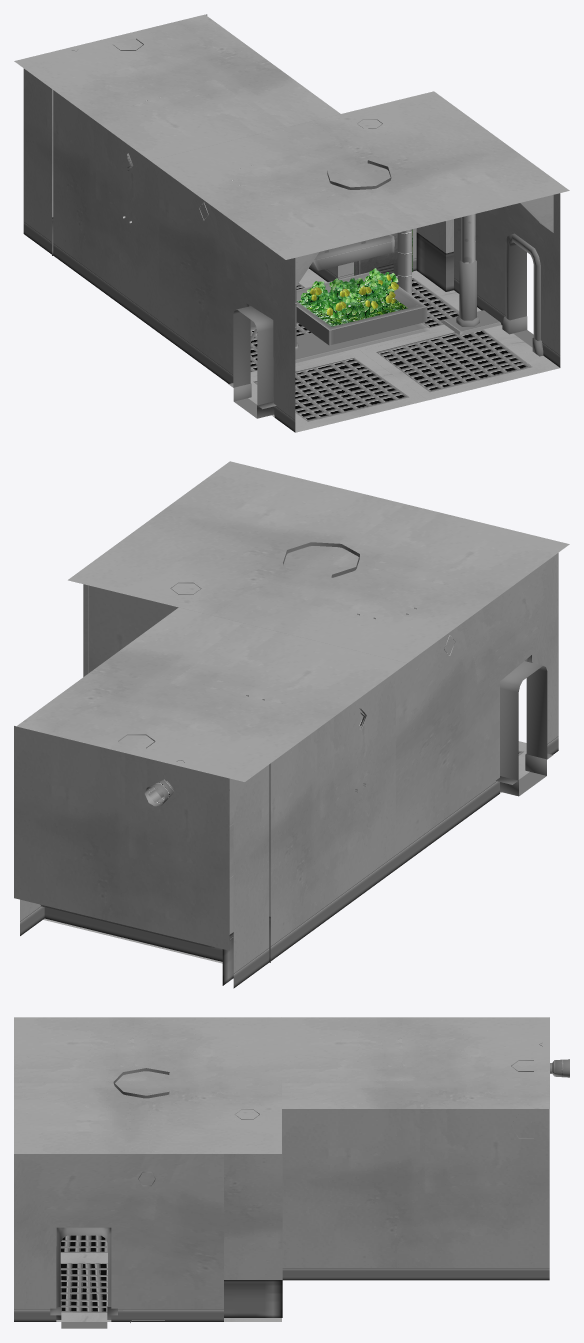
Rendered from MSH_Hydroponic_farm_room_L3_R1_optimized.fbx.
3 views of the same model, one above another, from view 1: azimuth 30°, elevation 25°; view 2: azimuth 150°, elevation 25°; view 3: azimuth 270°, elevation 25° (orthographic). The views are drawn at different scales.
Visible parts, largest first — view 1: lightmap1, lightmap0, lightmap-1; view 2: lightmap1, lightmap-1, lightmap0; view 3: lightmap1, lightmap0, lightmap-1.
Part boxes in pixels (box(x1,y1,x2,y2)): lightmap1: box(14, 14, 569, 432); lightmap0: box(52, 38, 553, 363); lightmap-1: box(233, 214, 533, 418); lightmap1: box(14, 461, 569, 988); lightmap-1: box(500, 661, 547, 796); lightmap0: box(40, 542, 455, 985); lightmap1: box(14, 1017, 549, 1321); lightmap0: box(113, 1043, 569, 1322); lightmap-1: box(60, 1227, 107, 1328).
Size of the model in its own units: 10.3 by 6.02 by 17.13.
5 materials, 4 textured.
